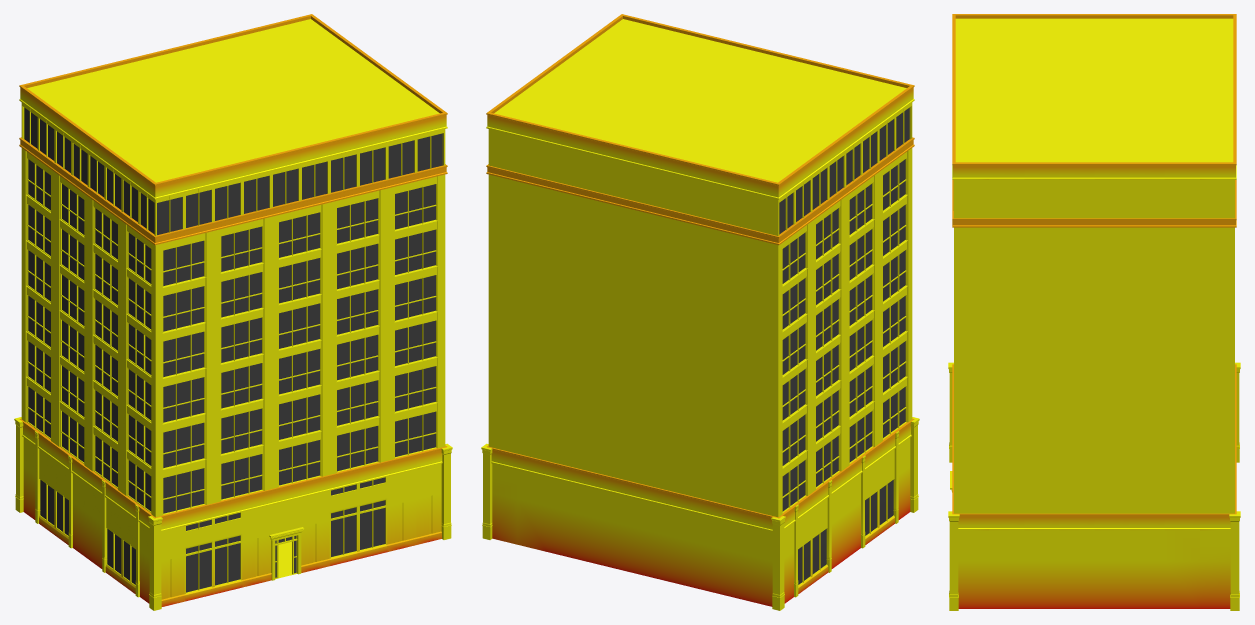
File: building-large-2.glb
3 views of the same model, side by side, from view 1: azimuth 30°, elevation 25°; view 2: azimuth 150°, elevation 25°; view 3: azimuth 270°, elevation 25° (orthographic). The views are drawn at different scales.
Visible parts, largest first — view 1: Building_Large_2; view 2: Building_Large_2; view 3: Building_Large_2.
Boxes of the visible parts, bbox=[...] form: Building_Large_2: bbox=[14, 14, 452, 610]; Building_Large_2: bbox=[481, 14, 919, 610]; Building_Large_2: bbox=[948, 14, 1240, 610].
Size of the model in its own units: 20.64 by 28 by 16.64.
Materials: 12 (11 with a texture image).
